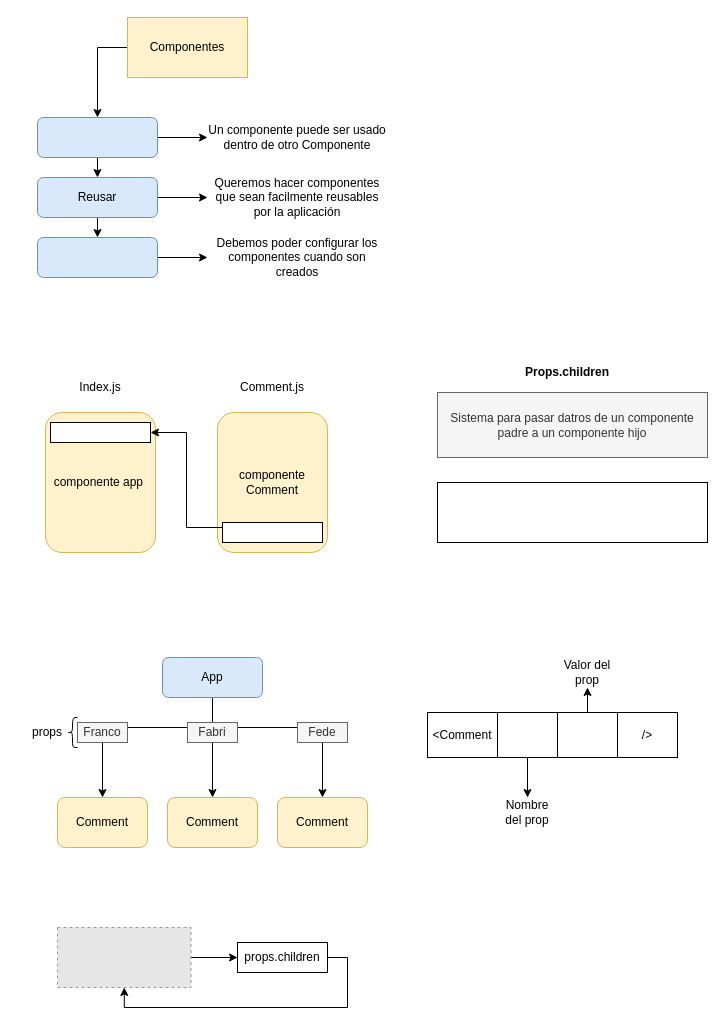
Some shapes in this 725 by 1033 pixel diagram are drawn without their labels. Grey dashed boxes stand in for pictures. Here are the shapes that lost their labels. From the top down, the centre of each, then its label:
At (x=97, y=137): "Anidar".
At (x=97, y=257): "Configurar".
At (x=100, y=432): "import Comment".
At (x=272, y=532): "export Comment".
At (x=572, y=512): "Nos permite customizar o configurar un componente hijo".
At (x=527, y=735): "Name=".
At (x=587, y=735): "Sam".
